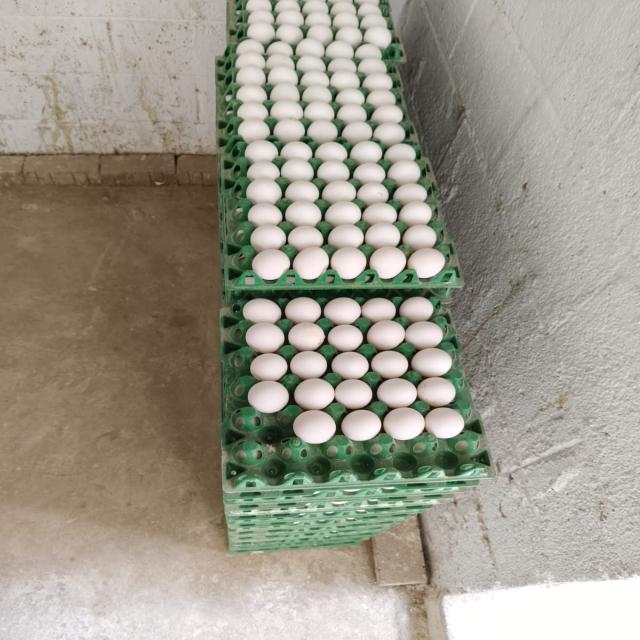egg_tray: (222, 298, 490, 485), (221, 141, 462, 288), (229, 296, 469, 413), (221, 178, 462, 290), (220, 141, 443, 253), (218, 85, 436, 195), (219, 141, 443, 246), (216, 46, 414, 150), (220, 141, 442, 227), (217, 56, 414, 152), (221, 199, 449, 279), (217, 66, 416, 152), (218, 83, 428, 164), (223, 223, 461, 291), (219, 140, 438, 209), (215, 52, 409, 123), (217, 84, 415, 153), (223, 467, 479, 515), (223, 470, 479, 515), (217, 97, 416, 153), (227, 0, 405, 61), (215, 40, 402, 96), (227, 0, 401, 60), (225, 486, 467, 526), (225, 494, 454, 536), (225, 501, 436, 542), (225, 499, 438, 539), (215, 38, 398, 84), (225, 488, 465, 523), (225, 501, 436, 540), (226, 501, 436, 540), (227, 0, 393, 49), (226, 502, 435, 540), (225, 492, 456, 525), (226, 501, 436, 535), (226, 500, 437, 530), (228, 519, 402, 552), (227, 520, 402, 552), (228, 518, 405, 548), (227, 519, 402, 549), (228, 516, 406, 543), (226, 508, 420, 531), (227, 0, 390, 24), (229, 529, 383, 553), (228, 529, 380, 553), (228, 530, 370, 553), (228, 531, 371, 553), (228, 532, 367, 554), (228, 533, 367, 554), (228, 536, 363, 554), (228, 537, 365, 554), (218, 190, 232, 297), (223, 286, 294, 306), (217, 155, 228, 271), (217, 155, 227, 248), (217, 189, 227, 266), (337, 222, 386, 235), (433, 416, 463, 436), (298, 284, 340, 296), (385, 423, 414, 439), (294, 426, 319, 443), (429, 287, 454, 304), (307, 106, 337, 120), (379, 263, 405, 279), (343, 425, 369, 440), (343, 283, 374, 294), (237, 102, 266, 113), (272, 298, 291, 314), (357, 150, 378, 164), (389, 222, 405, 240), (327, 189, 348, 202), (422, 166, 434, 188), (229, 236, 251, 248), (218, 121, 232, 136), (270, 224, 289, 235), (378, 434, 393, 447), (378, 434, 393, 446), (257, 27, 271, 39), (377, 284, 391, 295), (263, 56, 281, 64), (420, 501, 436, 510), (451, 372, 461, 386), (395, 286, 422, 291), (243, 29, 256, 39), (298, 42, 314, 50), (274, 16, 288, 25), (233, 230, 245, 238), (293, 241, 305, 249), (318, 32, 330, 40), (353, 90, 362, 100), (337, 161, 348, 169), (236, 361, 246, 369), (289, 228, 297, 238), (375, 420, 381, 433), (301, 160, 312, 167), (223, 174, 238, 179), (371, 164, 383, 170), (223, 432, 236, 437), (411, 298, 427, 302), (430, 270, 439, 277), (359, 61, 367, 68), (335, 93, 343, 99), (291, 16, 299, 22), (293, 439, 298, 448), (259, 468, 268, 473), (226, 224, 233, 230), (293, 439, 298, 447), (319, 162, 325, 168), (283, 161, 290, 166), (318, 19, 325, 24), (308, 76, 316, 80), (418, 426, 423, 432), (261, 194, 267, 199), (255, 54, 261, 59), (405, 194, 411, 199), (260, 299, 270, 302), (318, 59, 324, 64), (347, 20, 354, 24), (308, 251, 317, 254), (393, 175, 398, 180), (394, 168, 399, 173), (238, 376, 244, 380), (269, 91, 275, 95), (381, 90, 387, 94), (259, 271, 265, 275), (238, 262, 244, 266), (303, 229, 310, 232), (308, 19, 315, 22), (287, 13, 294, 16), (474, 481, 479, 485), (333, 175, 338, 179), (354, 168, 358, 173), (434, 264, 438, 269), (251, 112, 257, 115), (225, 440, 228, 446), (250, 304, 256, 307), (302, 30, 305, 36), (408, 170, 412, 174), (254, 168, 258, 172), (339, 272, 343, 276), (280, 298, 285, 301), (227, 437, 232, 440), (250, 176, 257, 178), (375, 61, 382, 63), (327, 158, 339, 159), (294, 154, 298, 157), (456, 282, 459, 286), (383, 118, 387, 121), (425, 507, 429, 510), (258, 228, 261, 232), (376, 298, 382, 300), (485, 474, 490, 476), (316, 485, 321, 487), (270, 488, 273, 491), (274, 164, 277, 167), (390, 265, 393, 268), (363, 300, 366, 303), (337, 25, 346, 26), (378, 21, 381, 24), (295, 188, 299, 190), (329, 48, 331, 52), (476, 480, 478, 484), (288, 240, 292, 242), (309, 244, 313, 246), (226, 466, 228, 470), (219, 148, 221, 152), (307, 24, 311, 26), (252, 19, 256, 21), (255, 87, 262, 88), (237, 293, 240, 295), (382, 216, 384, 219), (325, 200, 328, 202), (312, 153, 314, 156), (218, 61, 221, 63), (377, 509, 380, 511), (334, 73, 337, 75), (226, 161, 228, 164), (303, 238, 306, 240), (252, 232, 254, 235), (425, 244, 428, 246), (255, 238, 258, 240), (267, 473, 269, 476), (274, 316, 276, 319), (289, 311, 291, 314), (434, 301, 436, 304), (310, 535, 315, 536), (262, 492, 267, 493), (291, 85, 293, 87), (390, 243, 392, 245), (361, 483, 363, 485), (301, 103, 305, 104), (342, 225, 346, 226), (414, 238, 416, 240), (366, 430, 367, 433), (436, 301, 437, 304), (385, 76, 388, 77), (238, 167, 241, 168), (381, 529, 384, 530), (415, 303, 418, 304), (298, 24, 301, 25), (273, 549, 276, 550), (415, 433, 417, 434), (267, 200, 268, 202), (292, 189, 293, 191), (222, 167, 224, 168), (388, 92, 390, 93), (457, 278, 458, 280), (349, 484, 350, 486), (241, 56, 242, 58), (386, 527, 388, 528), (244, 127, 246, 128), (357, 274, 359, 275), (337, 543, 339, 544), (431, 244, 432, 246), (292, 238, 294, 239), (276, 313, 277, 315), (352, 311, 353, 313), (412, 302, 413, 304), (316, 45, 318, 46), (317, 76, 319, 77), (302, 22, 303, 24), (254, 145, 255, 146), (337, 103, 338, 104), (232, 3, 233, 4), (364, 484, 365, 485), (225, 138, 226, 139), (327, 227, 328, 228), (351, 61, 352, 62), (389, 87, 390, 88), (227, 163, 228, 163), (334, 532, 335, 532), (331, 434, 332, 434), (238, 372, 239, 372), (276, 194, 276, 194), (290, 70, 290, 70), (374, 96, 374, 97), (340, 92, 343, 92), (226, 434, 227, 434), (236, 38, 236, 39), (254, 492, 259, 492), (245, 492, 246, 492), (245, 54, 249, 54), (404, 190, 406, 190), (236, 170, 237, 170), (405, 168, 406, 168), (327, 168, 327, 168), (263, 276, 263, 276), (429, 234, 430, 234), (251, 232, 252, 232), (487, 476, 488, 476), (292, 60, 292, 61), (365, 52, 365, 52), (372, 25, 374, 25)
